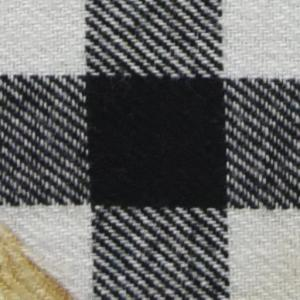Oil Stain: (1, 219, 82, 300)
